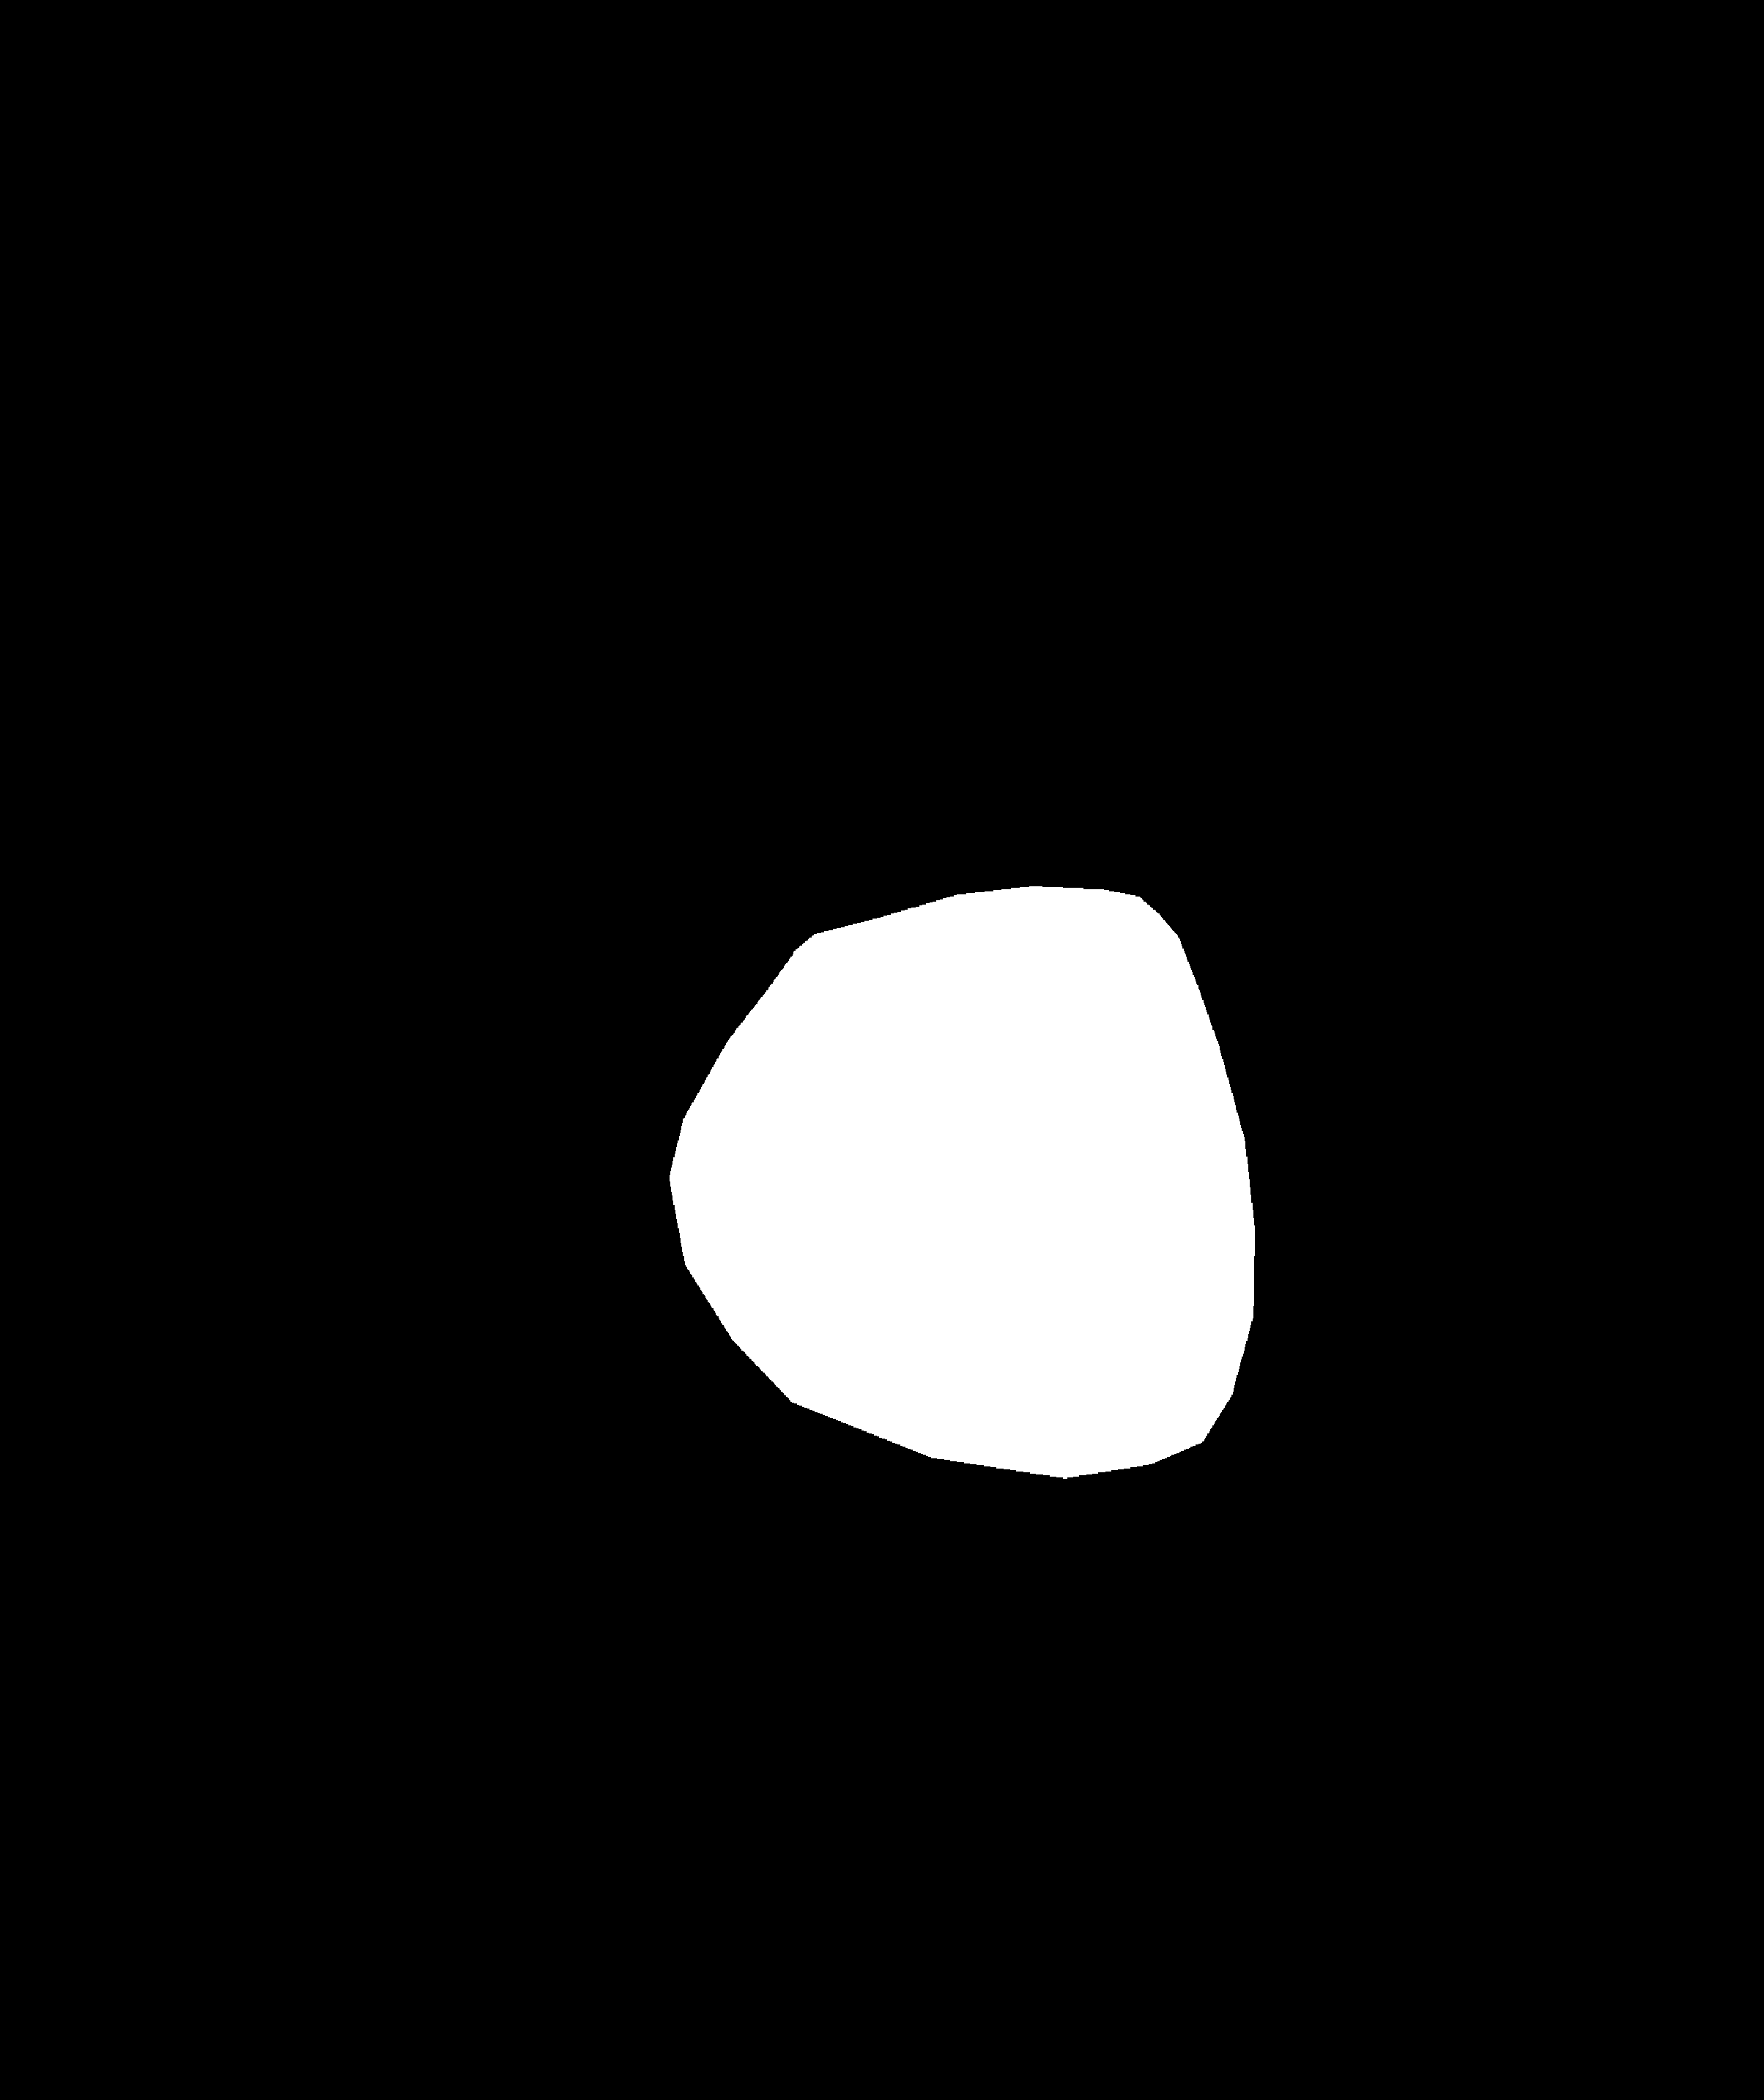heart: (663, 934, 1249, 1505)
left_lung: (222, 234, 843, 1647)
right_lung: (1052, 287, 1515, 1655)
